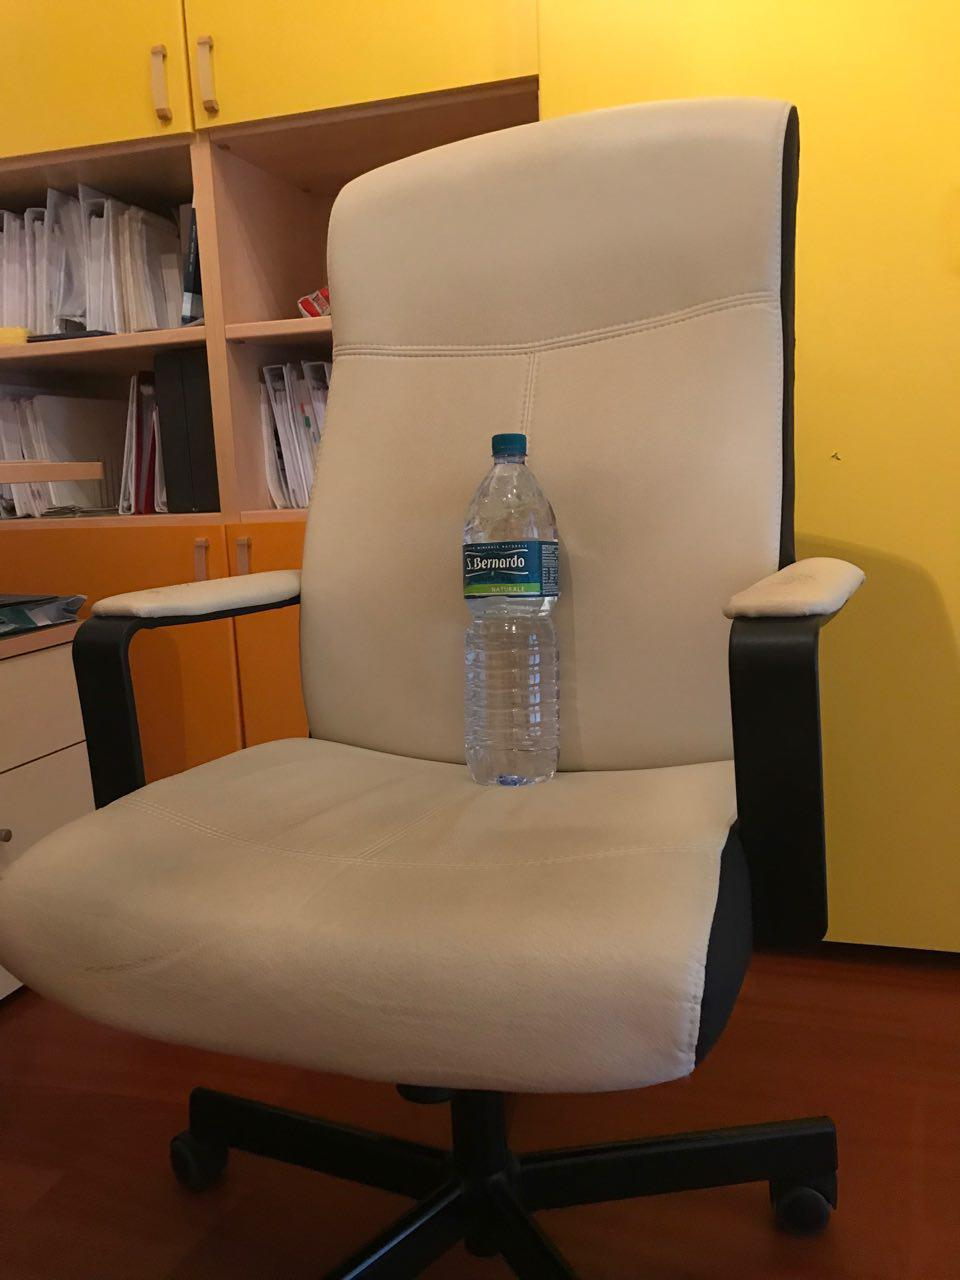san_bernardo: (462, 431, 560, 786)
